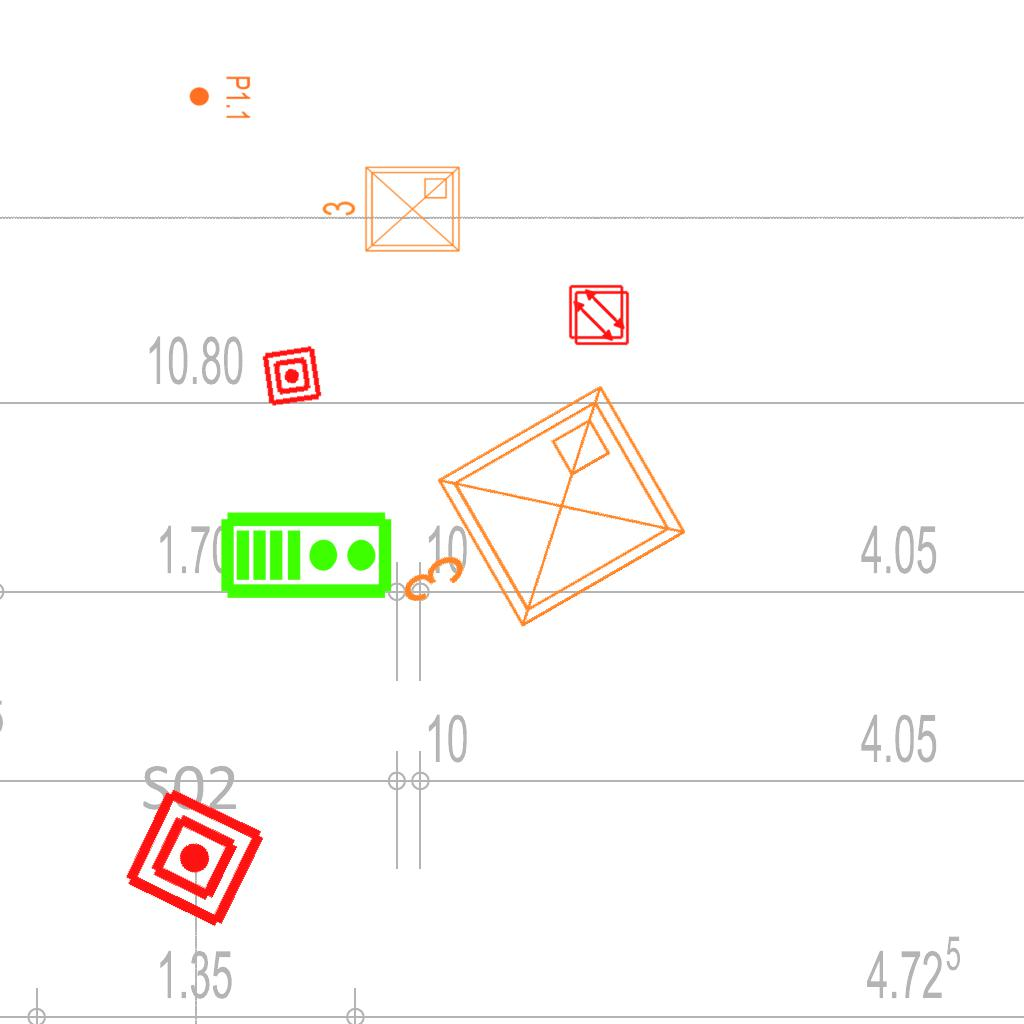Downlight_LED_Einbauleuchten_Flur: (188, 75, 252, 121)
Einbaudownlights_LED_Konferenzraeume: (346, 364, 710, 696), (317, 159, 467, 263)
Gegensprechanlage_mit_Video: (219, 506, 395, 601)
NAM-Nichtautomatischer_Melder: (118, 781, 271, 934), (260, 344, 324, 408)
RMO_Rauchmelder_optischer: (568, 284, 624, 340), (574, 290, 630, 346)
